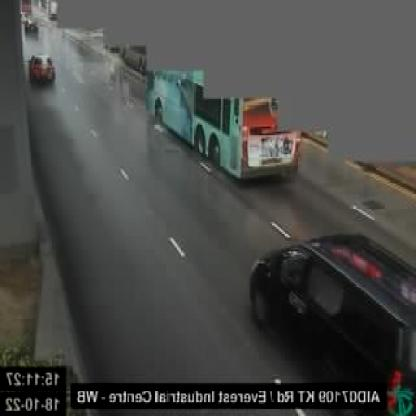Bus: (144, 65, 300, 183)
Car: (251, 233, 416, 411), (27, 52, 57, 87)
